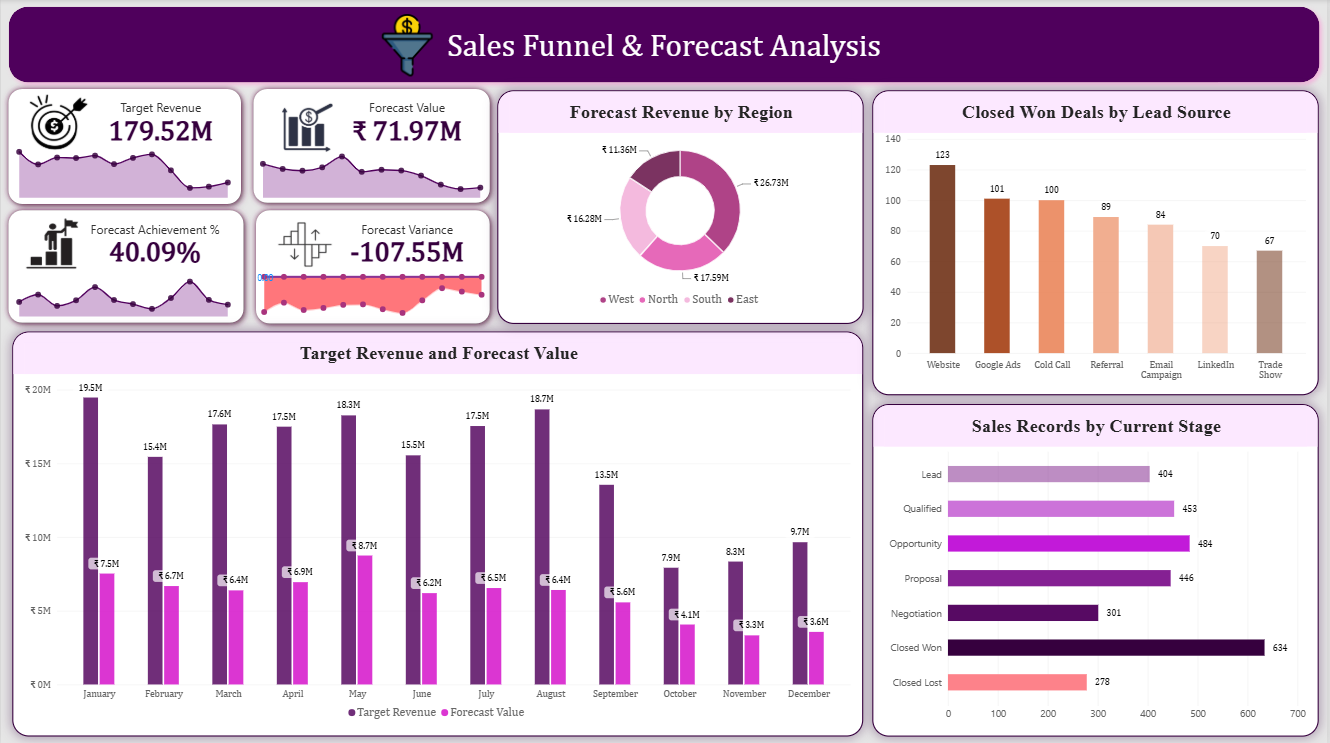

What the dashboard file says about the page in this screenshot:
{"tool":"powerbi","page":{"name":"Sales Funnel & Forecast","canvas":[1920,1080],"ordinal":1},"visuals":[{"type":"shape","box":[0,0,1920.1,132.1],"z":0},{"type":"textbox","title":"Sales Funnel & Forecast Analysis","box":[0,43.4,1920.1,61.5],"z":1000},{"type":"shape","box":[0,119.4,358.3,188.2],"z":2000},{"type":"shape","box":[354.7,119.4,363.7,186.4],"z":3000},{"type":"shape","box":[0,295,361.9,184.6],"z":4000},{"type":"shape","box":[358.6,294.3,360,185.7],"z":5000},{"type":"lineChart","fields":{"Category":["Dim_Date.Month_Number"],"Y":["Sales_Data.Target Revenue"]},"box":[16.3,208.1,322.1,79.6],"z":6000},{"type":"cardVisual","fields":{"Data":["Sales_Data.Target Revenue"]},"box":[124.9,139.3,213.5,86.9],"z":7000},{"type":"image","box":[34.4,132.1,98,92],"z":8000},{"type":"lineChart","fields":{"Category":["Dim_Date.Month_Number"],"Y":["Sales_Data.Forecast Value"]},"box":[369.2,208.1,334.8,79.6],"z":9000},{"type":"cardVisual","fields":{"Data":["Sales_Data.Forecast Value"]},"box":[480.9,139.2,213.5,86.9],"z":10000},{"type":"cardVisual","fields":{"Data":["Sales_Data.Forecast Variance"]},"box":[481.5,315.7,213.5,86.9],"z":11000},{"type":"image","box":[391,310.3,98,92],"z":12000},{"type":"lineChart","fields":{"Category":["Dim_Date.Month_Number"],"Y":["Sales_Data.Target Achievement %"]},"box":[16.3,380,322.1,79.6],"z":13000},{"type":"cardVisual","fields":{"Data":["Sales_Data.Forecast Achievement %"]},"box":[108.6,314.9,229.8,86.9],"z":14000},{"type":"image","box":[16.3,305.8,115.8,95.9],"z":15000},{"type":"image","box":[392.7,144.8,96,82],"z":16000},{"type":"image","box":[542.9,21.7,90.5,90.5],"z":17000},{"type":"barChart","title":"Sales Records by Current Stage","fields":{"Category":["Dim_Stage.Sales_Stage"],"Y":["Count(Sales_Data.Order_ID)"]},"box":[1261.3,586.3,646,481.4],"z":18000},{"type":"lineChart","fields":{"Category":["Dim_Date.Month_Number"],"Y":["Sales_Data.Negative Forecast Variance","Sales_Data.Positive Forecast Variance"]},"box":[371,389.1,334.8,70.6],"z":19000},{"type":"clusteredColumnChart","title":"Target Revenue and Forecast Value","fields":{"Category":["Dim_Date.Month"],"Y":["Sales_Data.Target Revenue","Sales_Data.Forecast Value"]},"box":[16.3,481.4,1232.4,586.3],"z":20000},{"type":"clusteredColumnChart","title":"Closed Won Deals by Lead Source","fields":{"Category":["Sales_Data.Lead_Source"],"Y":["Sales_Data.Closed Won Deals"]},"box":[1261.3,132.1,646,441.6],"z":21000},{"type":"pieChart","title":"Forecast Revenue by Region","fields":{"Category":["Sales_Data.Region"],"Y":["Sales_Data.Forecast Value"]},"box":[718.4,132.1,530.2,338.4],"z":22000}]}

Visuals, with their boxes in screenshot pixels (x1, y1, x2, y2), scaled from the page's 1920x1080 canvas onto the 1330x743 screenshot:
shape: <bbox>0, 0, 1329, 91</bbox>
"Sales Funnel & Forecast Analysis" textbox: <bbox>0, 30, 1329, 72</bbox>
shape: <bbox>0, 82, 248, 212</bbox>
shape: <bbox>246, 82, 498, 210</bbox>
shape: <bbox>0, 203, 251, 330</bbox>
shape: <bbox>248, 202, 498, 330</bbox>
lineChart - Dim_Date.Month_Number x Sales_Data.Target Revenue: <bbox>11, 143, 234, 198</bbox>
cardVisual - Sales_Data.Target Revenue: <bbox>87, 96, 234, 156</bbox>
image: <bbox>24, 91, 92, 154</bbox>
lineChart - Dim_Date.Month_Number x Sales_Data.Forecast Value: <bbox>256, 143, 488, 198</bbox>
cardVisual - Sales_Data.Forecast Value: <bbox>333, 96, 481, 156</bbox>
cardVisual - Sales_Data.Forecast Variance: <bbox>334, 217, 481, 277</bbox>
image: <bbox>271, 213, 339, 277</bbox>
lineChart - Dim_Date.Month_Number x Sales_Data.Target Achievement %: <bbox>11, 261, 234, 316</bbox>
cardVisual - Sales_Data.Forecast Achievement %: <bbox>75, 217, 234, 276</bbox>
image: <bbox>11, 210, 92, 276</bbox>
image: <bbox>272, 100, 339, 156</bbox>
image: <bbox>376, 15, 439, 77</bbox>
"Sales Records by Current Stage" barChart: <bbox>874, 403, 1321, 735</bbox>
lineChart - Dim_Date.Month_Number x Sales_Data.Negative Forecast Variance: <bbox>257, 268, 489, 316</bbox>
"Target Revenue and Forecast Value" clusteredColumnChart: <bbox>11, 331, 865, 735</bbox>
"Closed Won Deals by Lead Source" clusteredColumnChart: <bbox>874, 91, 1321, 395</bbox>
"Forecast Revenue by Region" pieChart: <bbox>498, 91, 865, 324</bbox>
